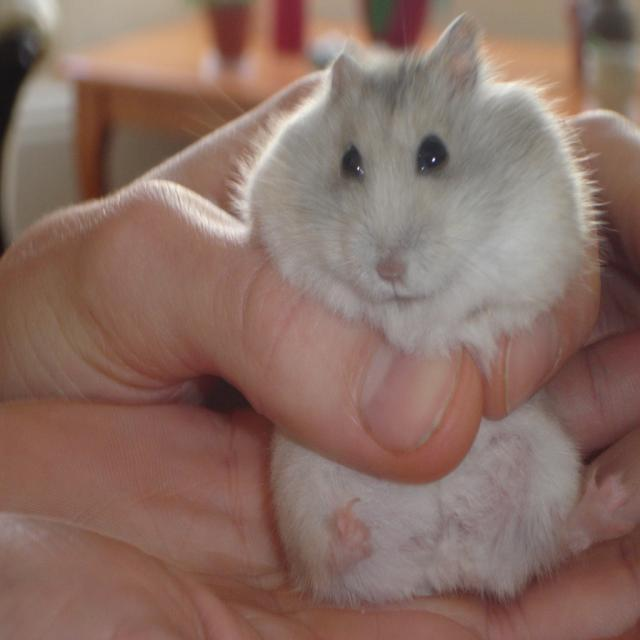rat: (232, 2, 604, 606)
